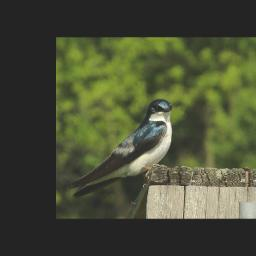Swallow: (67, 98, 174, 199)
